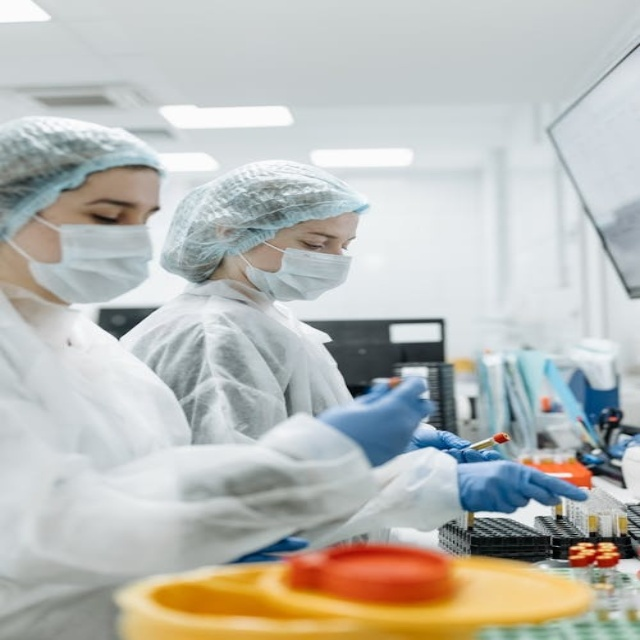Guantes: (301, 373, 436, 470), (456, 456, 589, 517), (402, 417, 506, 459)
Mascara: (9, 212, 154, 304), (239, 237, 350, 302)
Sin_gafas: (63, 190, 164, 225), (294, 226, 364, 251)
